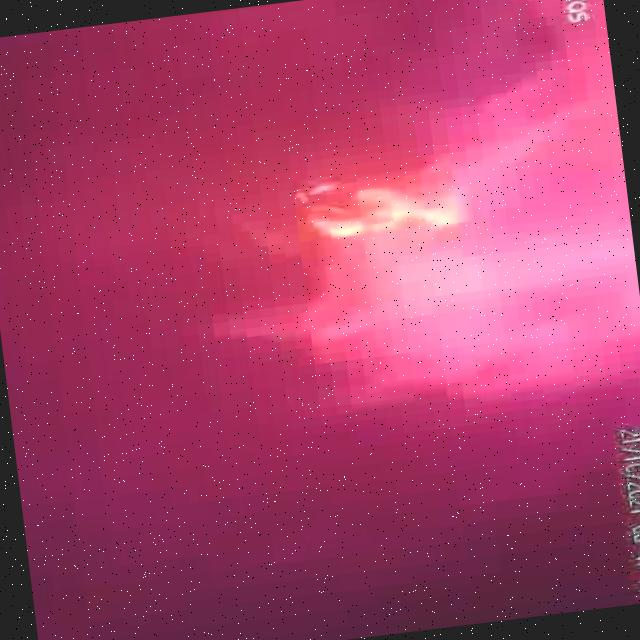fire: (223, 108, 537, 324)
